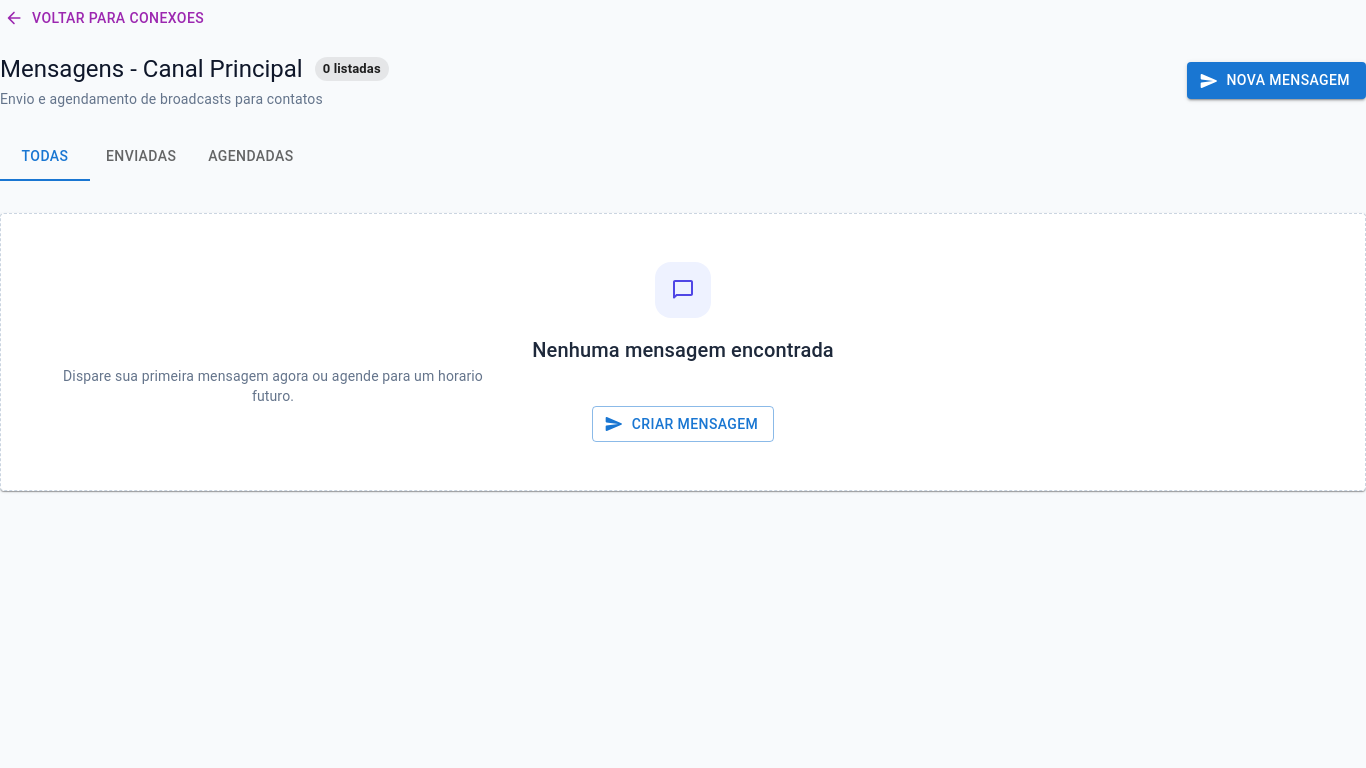
Test: MessagesPage › deve abrir o modal de nova mensagem ao clicar no botao
What coordinates should you click on to do the following:
click the button "Nova Mensagem"
I would click on:
 (1276, 81)
Its box is x1=1186 y1=62 x2=1365 y2=99.
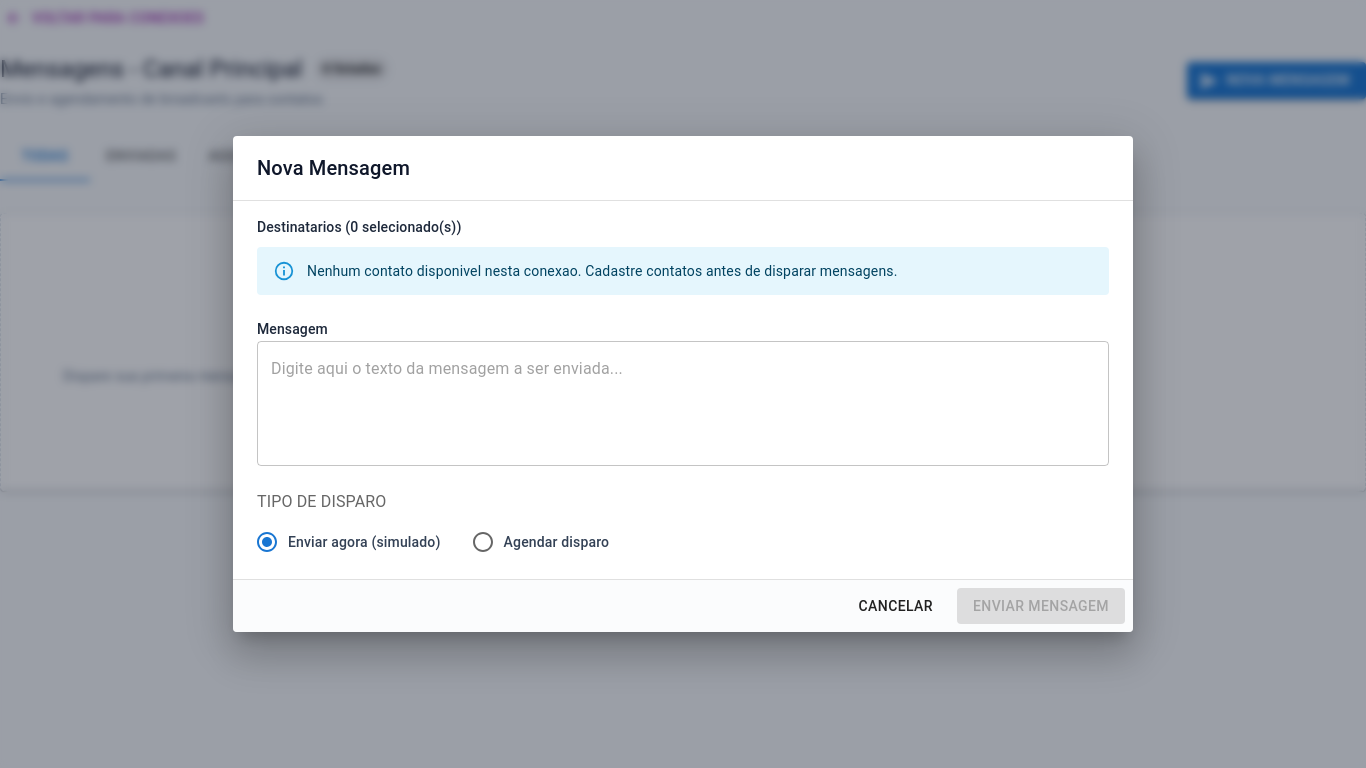
Expected: the heading "Nova Mensagem" is shown, x1=257 y1=156 x2=410 y2=180
